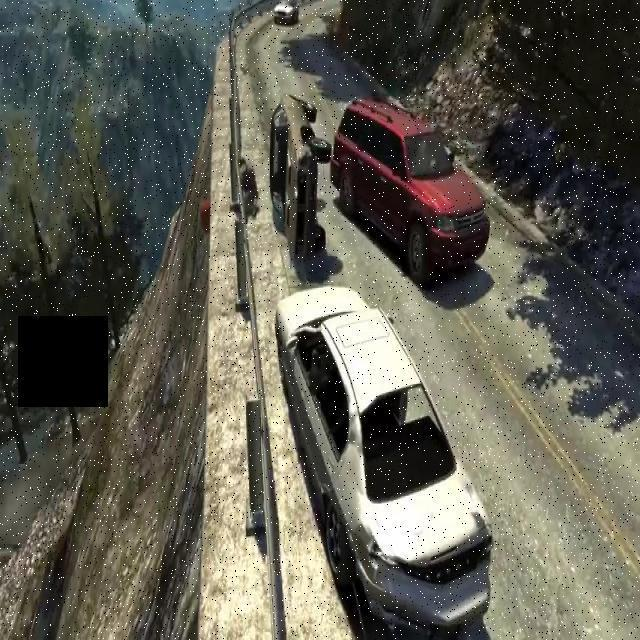multiple_accident: (218, 75, 545, 315)
normal: (247, 250, 547, 639)
